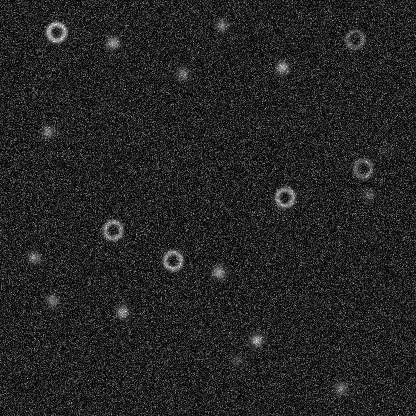Ring: (272, 185, 296, 209), (44, 19, 68, 43), (342, 27, 366, 51), (100, 217, 124, 241), (350, 156, 374, 180), (160, 248, 184, 272)
Spot: (44, 292, 60, 308), (274, 59, 290, 75), (25, 249, 41, 265), (332, 380, 348, 396), (228, 351, 244, 367), (375, 143, 391, 159), (360, 187, 376, 203), (248, 331, 264, 347), (213, 17, 229, 33), (39, 123, 55, 139), (210, 264, 226, 280), (174, 65, 190, 81), (114, 303, 130, 319), (104, 34, 120, 50)
